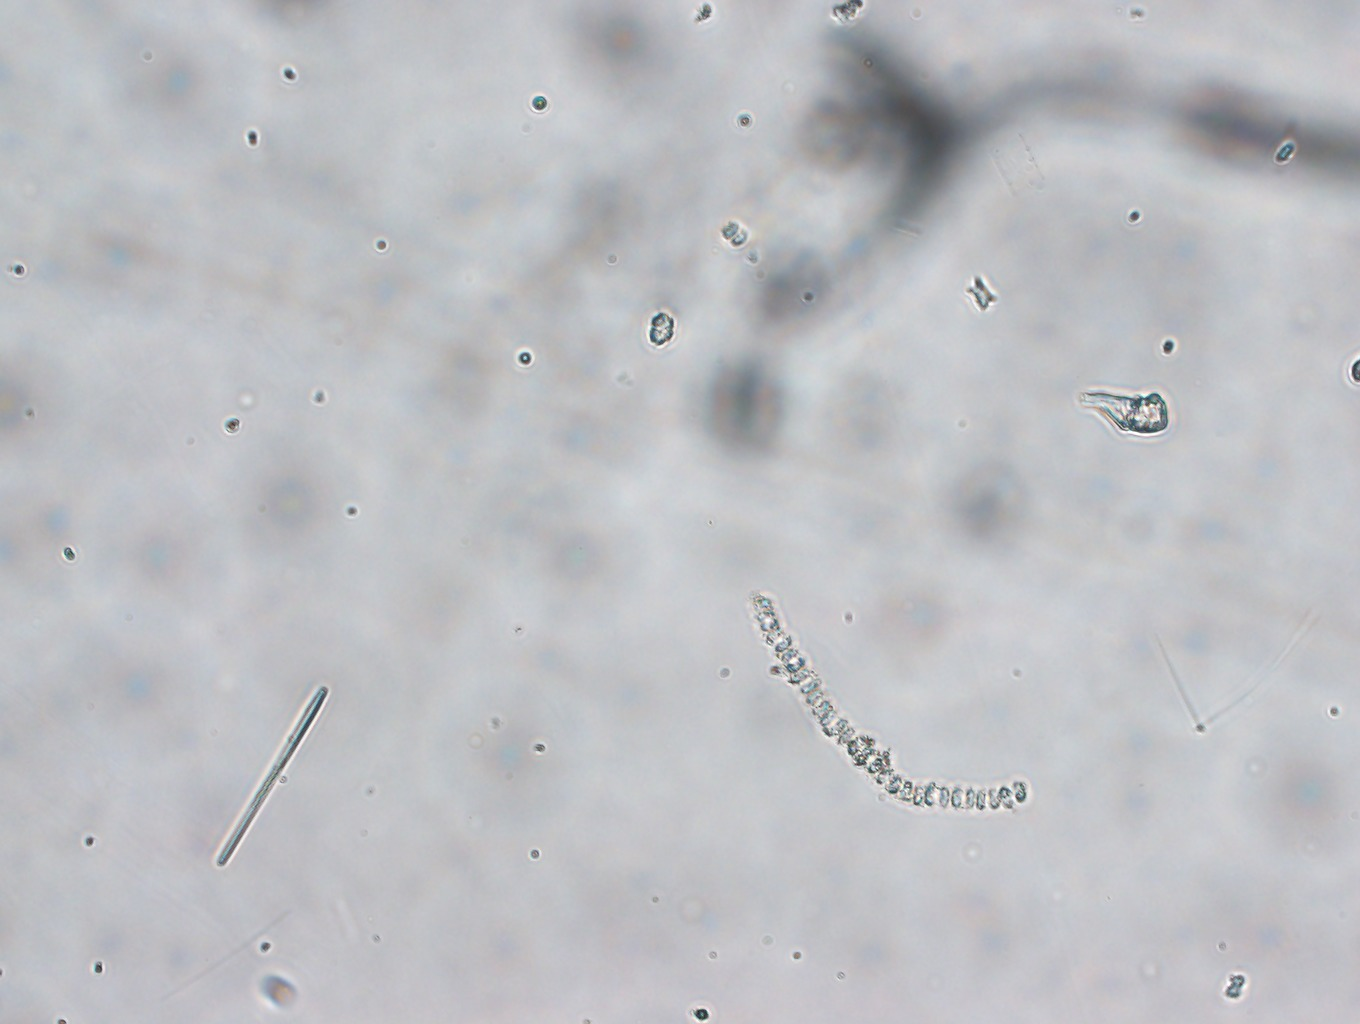skeletonema: (746, 585, 1039, 823)
